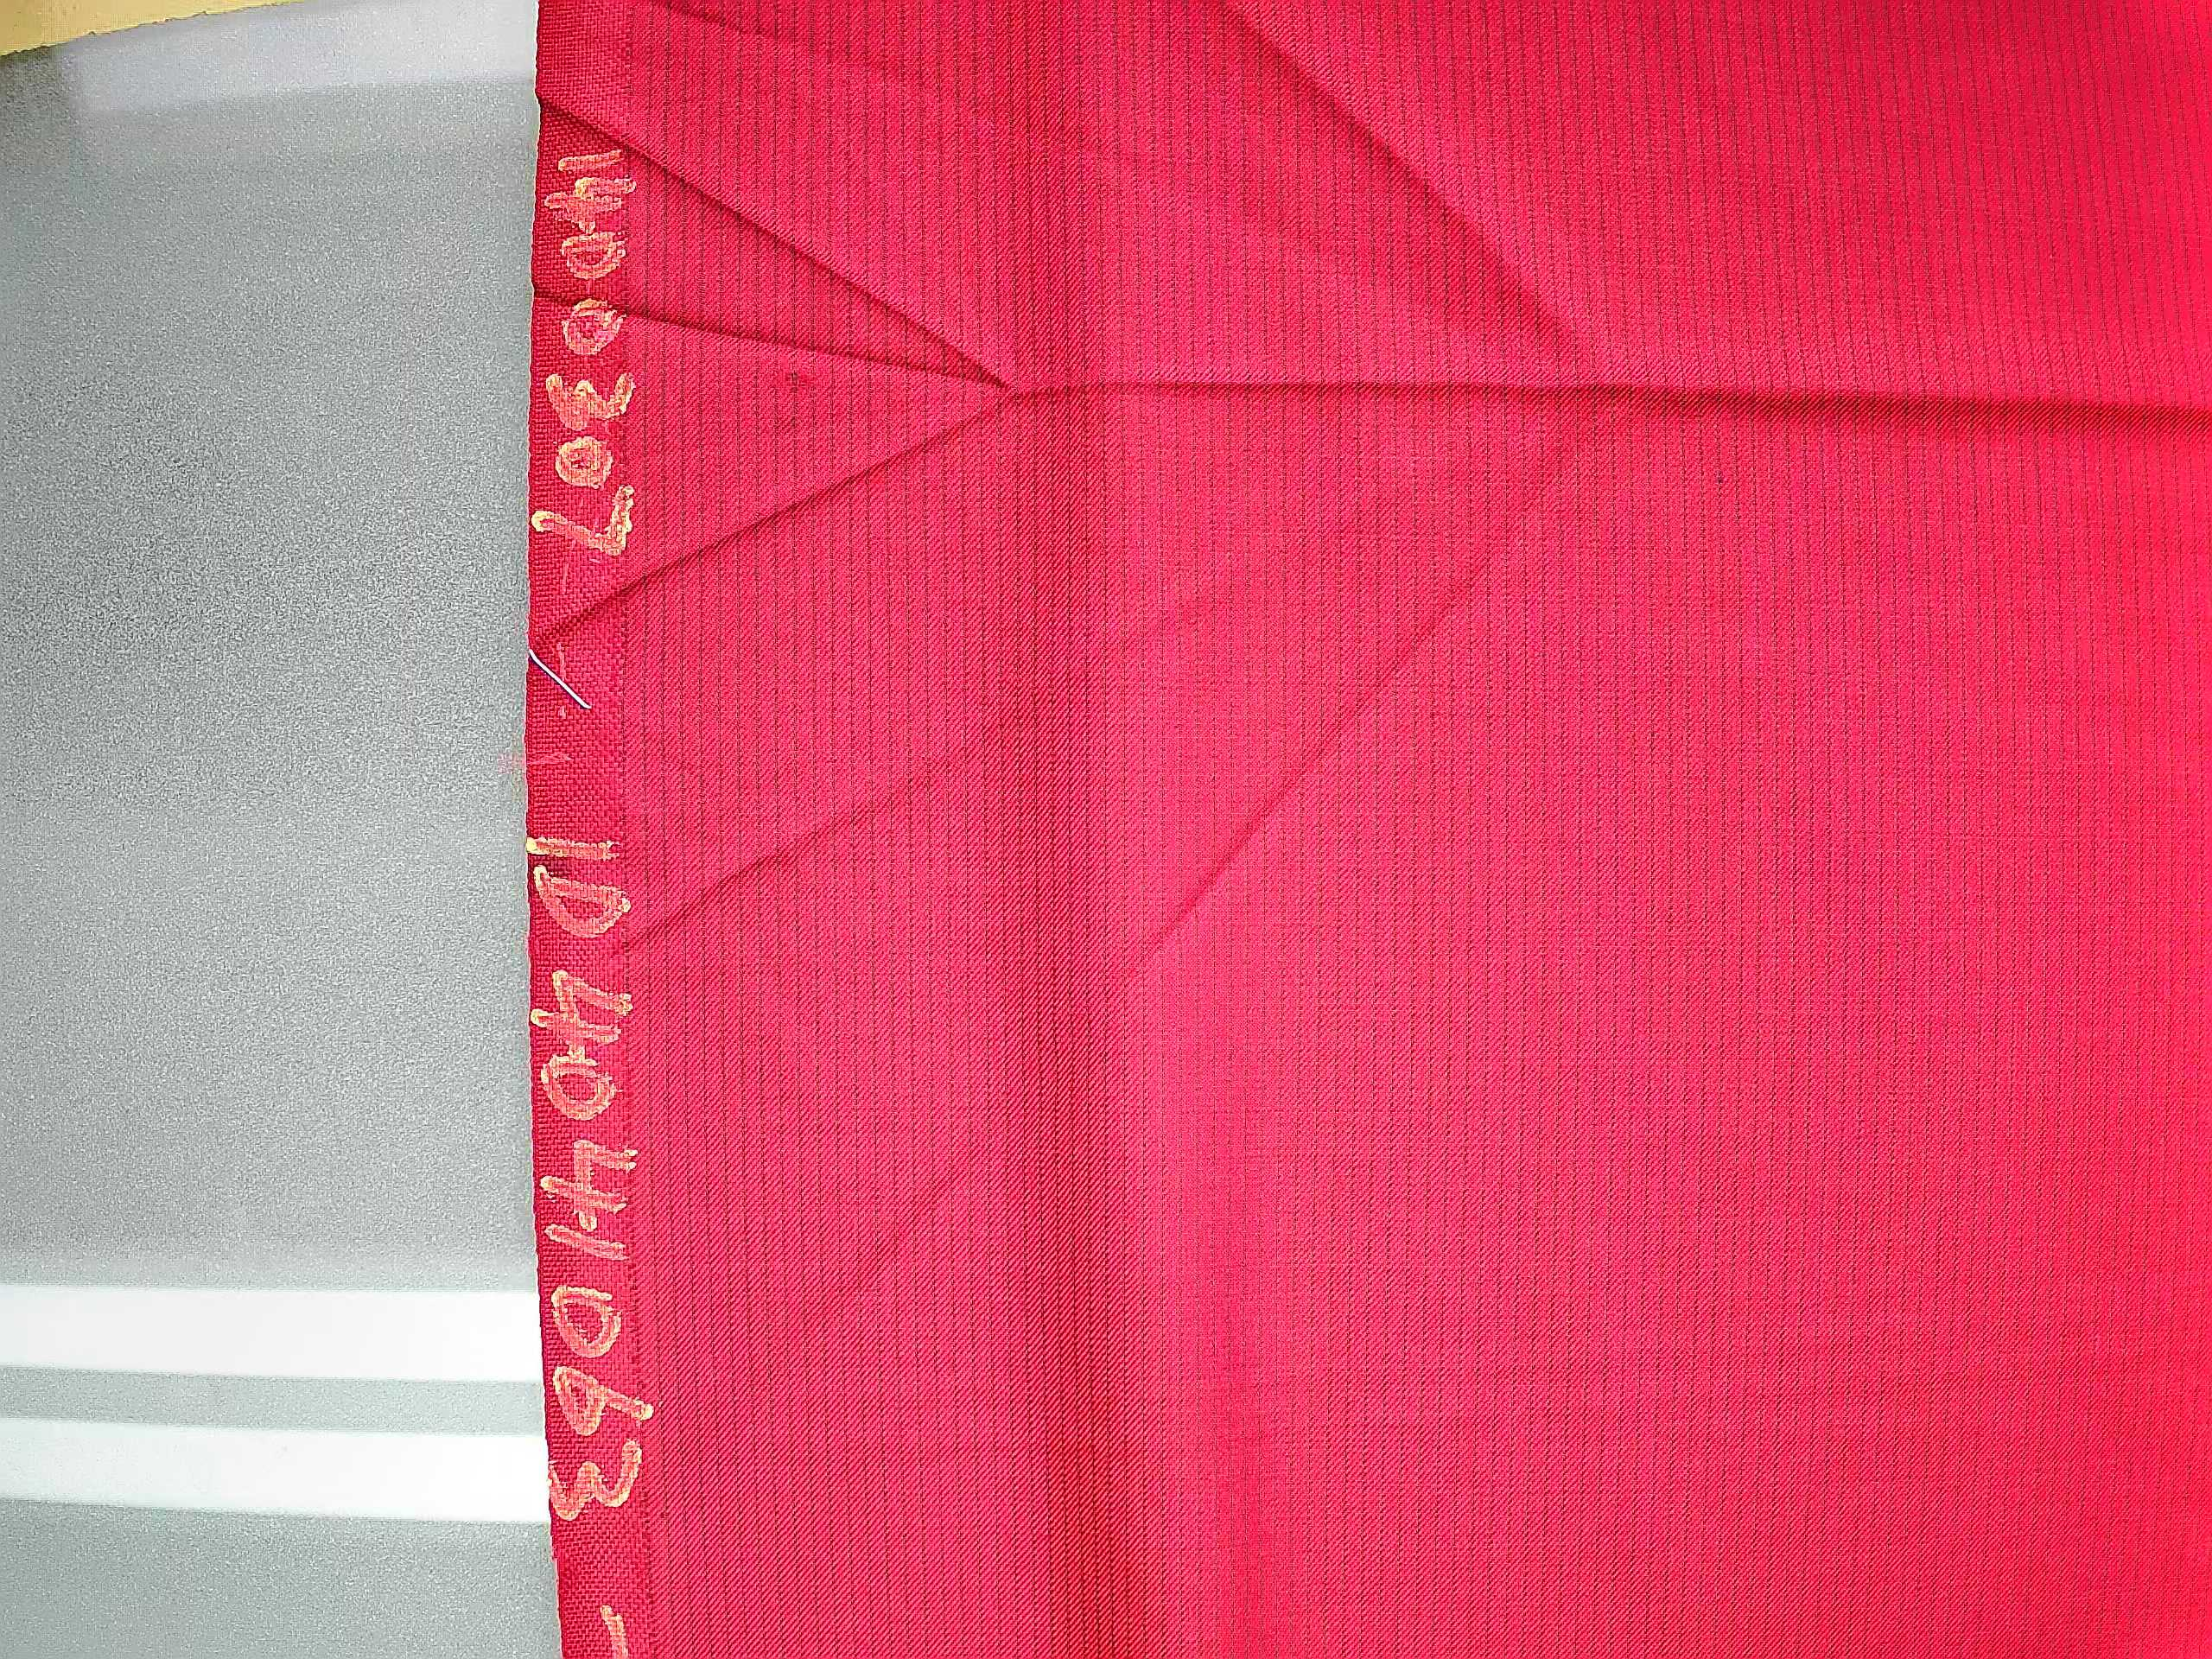brushed-hole: (761, 349, 827, 420)
